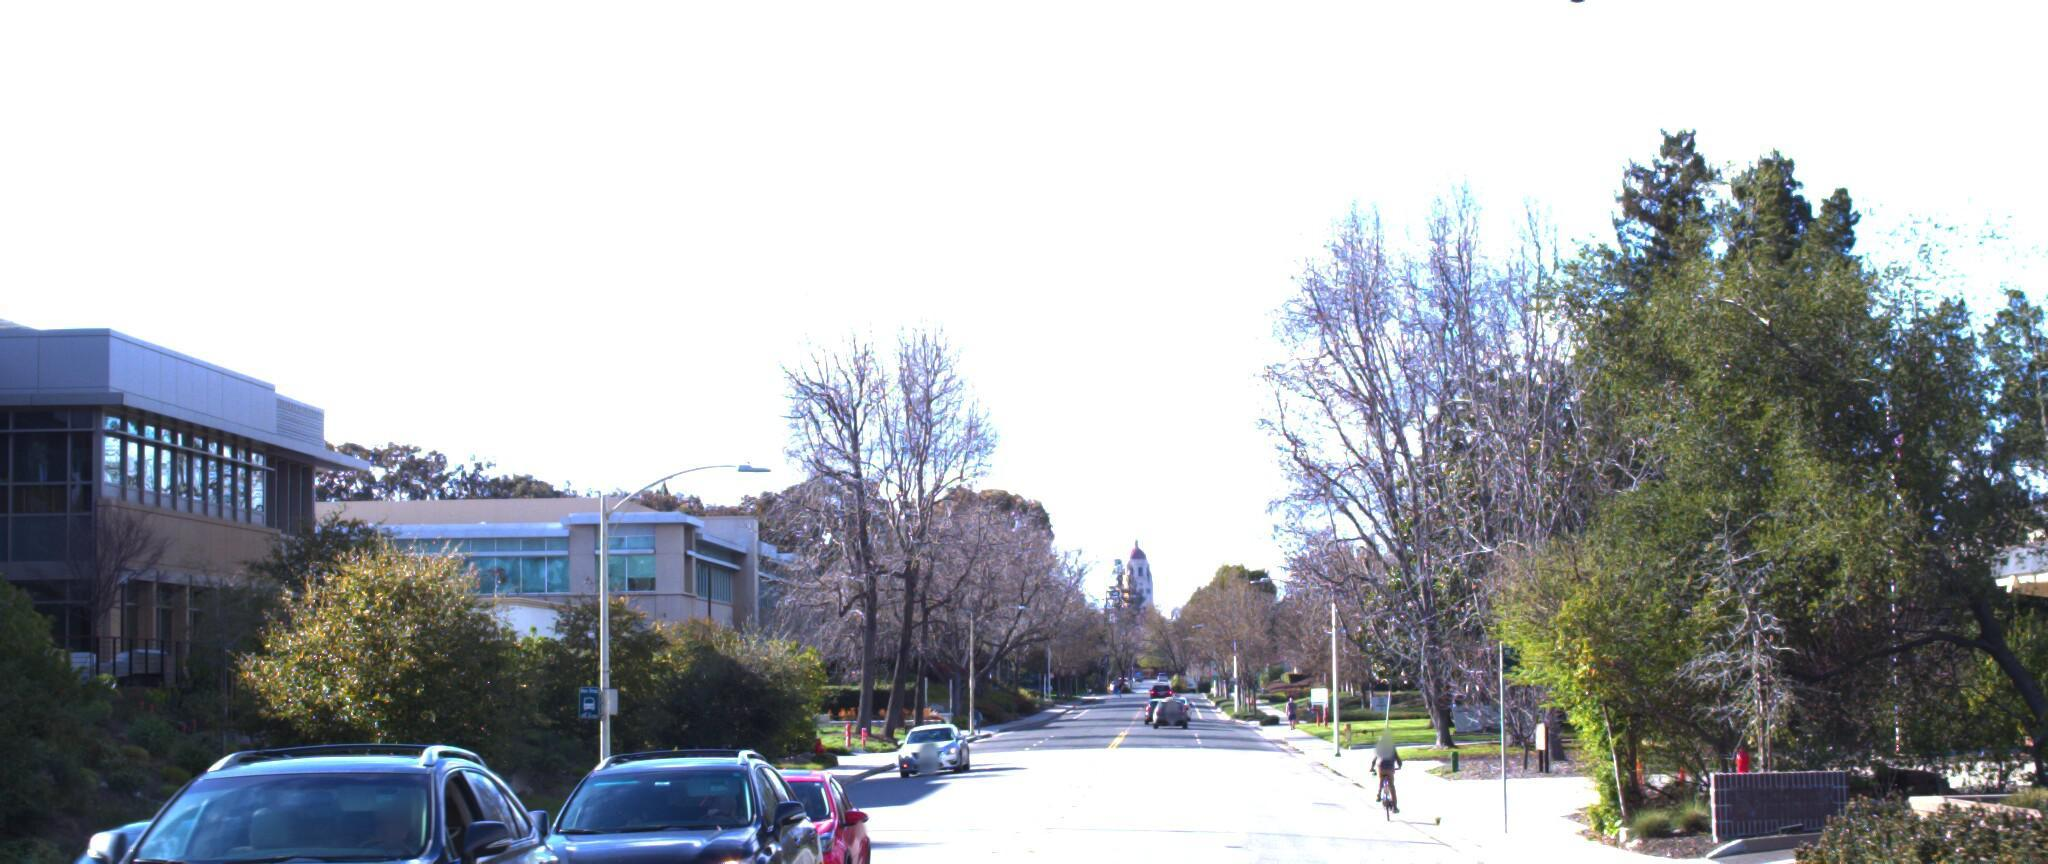bicycle: (1345, 726, 1394, 821)
car: (0, 728, 592, 864), (479, 739, 827, 864), (0, 783, 422, 864), (641, 749, 876, 864)
